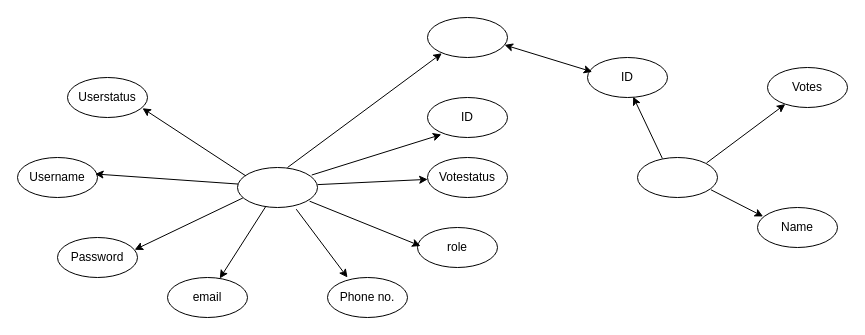
Some shapes in this 865 by 335 pixel diagram are drawn without their labels. Each missing label, with the centre of its shape:
Candidates: point 677,177
CID: point 467,37
User: point 277,187
